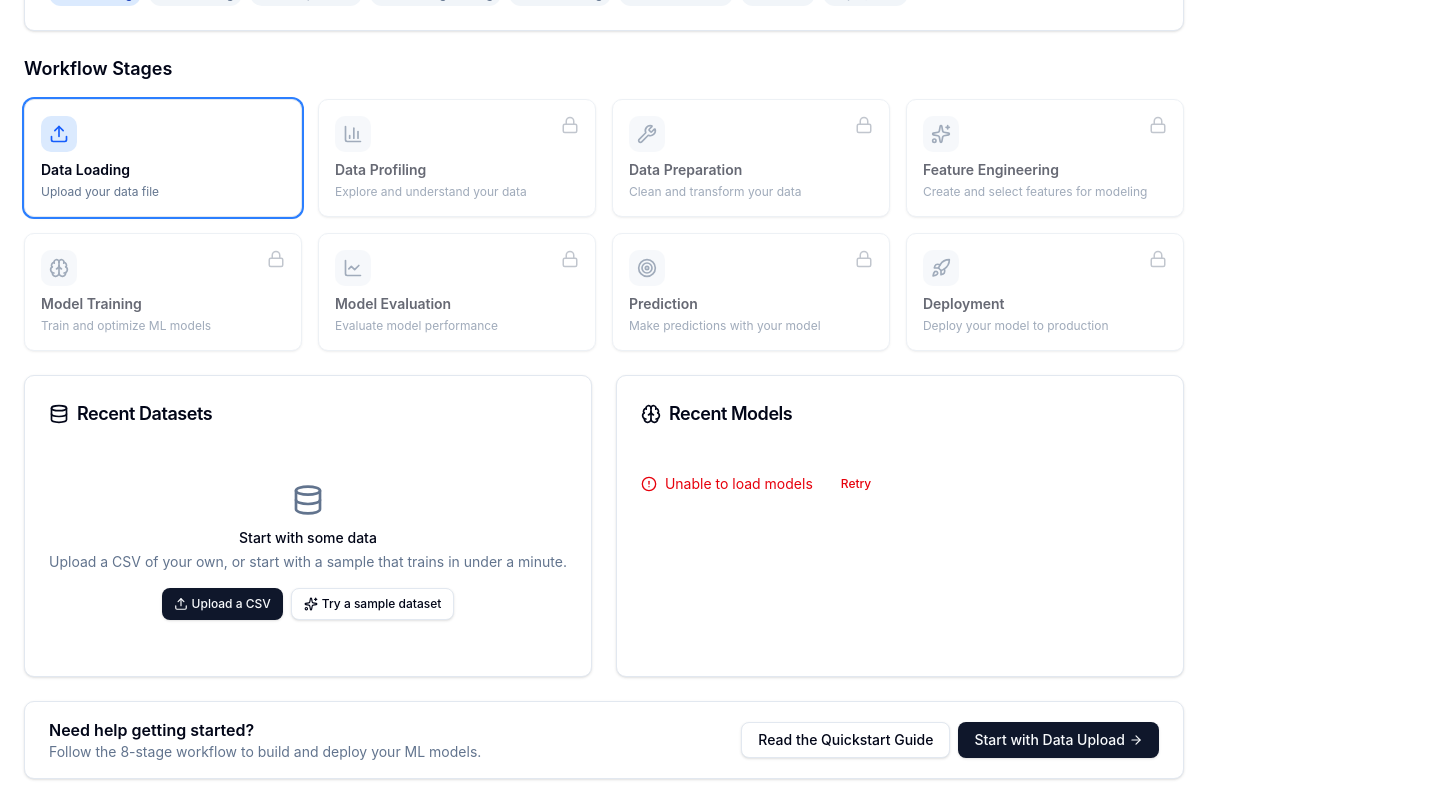
Test: DashboardPage › Error Retry Functionality › retries models fetch when Retry button is clicked
The image size is (1440, 803).
(page scrolled)
Check: the text "Unable to load models" is shown, box top-left (665, 474), bottom-right (813, 494)
Click the button "Retry".
click(856, 484)  # box top-left (829, 468), bottom-right (883, 500)
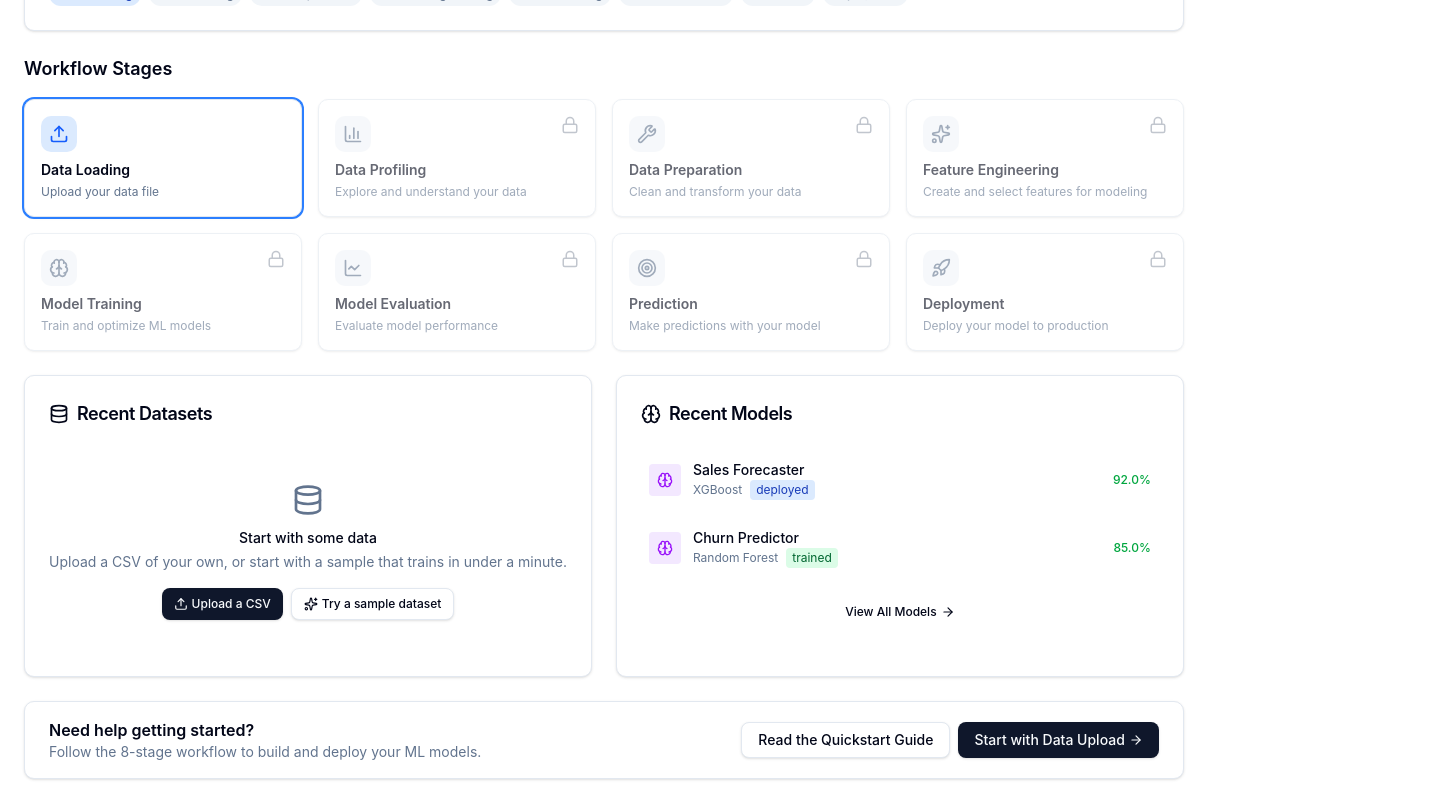
Check: the text "Churn Predictor" is shown, box top-left (693, 529), bottom-right (799, 546)
